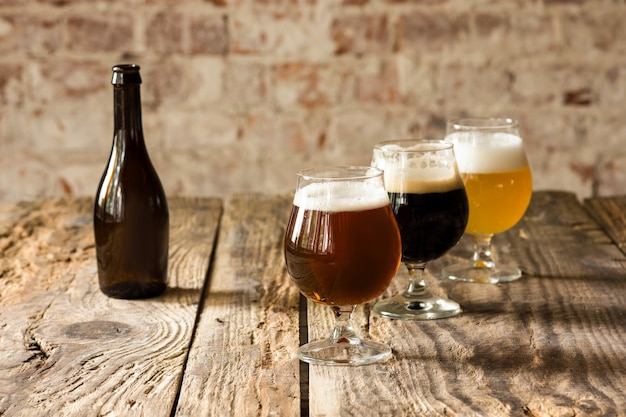alcohol: (279, 164, 401, 368), (364, 141, 469, 317), (94, 66, 170, 297), (442, 119, 534, 285)
